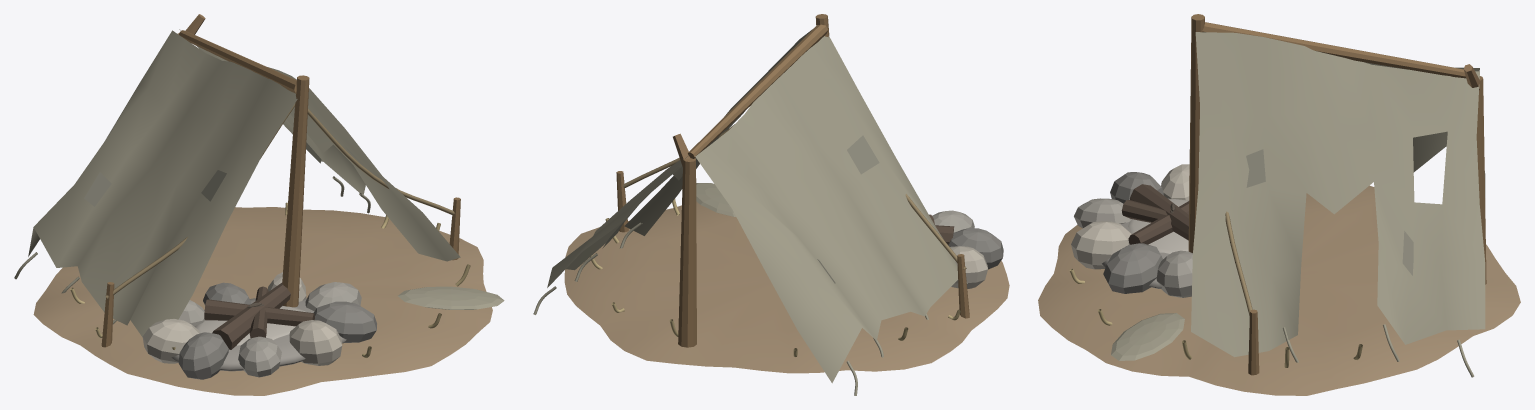
Rendered from acampamento_abandonado.glb.
The picture shows the model from 3 angles, left to right: view 1: azimuth 30°, elevation 25°; view 2: azimuth 150°, elevation 25°; view 3: azimuth 270°, elevation 25°; orthographic projection. The views are drawn at different scales.
Parts seen in each view (by area): view 1: Acampamento | Remendos de pano escuro, Chão de terra batida, Acampamento | Estacas de madeira rachadas, Acampamento | Pedra da fogueira | fuligem, Acampamento | Pedra da fogueira | luz, Acampamento | Madeira carbonizada, Acampamento | Pedra da fogueira | cinza, Acampamento | Cordame apodrecido, Canteiro de cinza fria, Cinza clara no centro, Acampamento | Palha morta; view 2: Acampamento | Remendos de pano escuro, Chão de terra batida, Acampamento | Estacas de madeira rachadas, Acampamento | Pedra da fogueira | fuligem, Acampamento | Pedra da fogueira | luz, Acampamento | Cordame apodrecido, Acampamento | Pedra da fogueira | cinza, Acampamento | Palha morta; view 3: Acampamento | Remendos de pano escuro, Chão de terra batida, Acampamento | Estacas de madeira rachadas, Acampamento | Pedra da fogueira | fuligem, Acampamento | Pedra da fogueira | luz, Acampamento | Madeira carbonizada, Acampamento | Pedra da fogueira | cinza, Cinza clara no centro, Acampamento | Cordame apodrecido, Acampamento | Palha morta.
Part boxes in pixels (x1,y1,x2,y2): Acampamento | Remendos de pano escuro: (14, 29, 504, 336); Chão de terra batida: (33, 207, 492, 395); Acampamento | Estacas de madeira rachadas: (101, 30, 460, 347); Acampamento | Pedra da fogueira | fuligem: (178, 282, 376, 379); Acampamento | Pedra da fogueira | luz: (142, 272, 342, 365); Acampamento | Madeira carbonizada: (204, 282, 314, 349); Acampamento | Pedra da fogueira | cinza: (178, 282, 361, 377); Acampamento | Cordame apodrecido: (105, 103, 454, 298); Canteiro de cinza fria: (171, 298, 346, 371); Cinza clara no centro: (194, 306, 305, 345); Acampamento | Palha morta: (70, 202, 470, 357); Acampamento | Remendos de pano escuro: (533, 29, 967, 395); Chão de terra batida: (564, 201, 1009, 373); Acampamento | Estacas de madeira rachadas: (616, 14, 969, 347); Acampamento | Pedra da fogueira | fuligem: (948, 228, 1003, 269); Acampamento | Pedra da fogueira | luz: (950, 246, 987, 288); Acampamento | Cordame apodrecido: (623, 124, 966, 269); Acampamento | Pedra da fogueira | cinza: (932, 210, 974, 232); Acampamento | Palha morta: (590, 199, 960, 356); Acampamento | Remendos de pano escuro: (1111, 32, 1485, 377); Chão de terra batida: (1038, 185, 1520, 395); Acampamento | Estacas de madeira rachadas: (1188, 14, 1486, 375); Acampamento | Pedra da fogueira | fuligem: (1103, 172, 1163, 293); Acampamento | Pedra da fogueira | luz: (1071, 164, 1189, 269); Acampamento | Madeira carbonizada: (1121, 184, 1189, 244); Acampamento | Pedra da fogueira | cinza: (1074, 198, 1192, 297); Cinza clara no centro: (1128, 198, 1189, 253); Acampamento | Cordame apodrecido: (1225, 211, 1252, 315); Acampamento | Palha morta: (1069, 269, 1362, 367).
Bounding box in the file's own units: 1.92 × 1.16 × 1.82.
